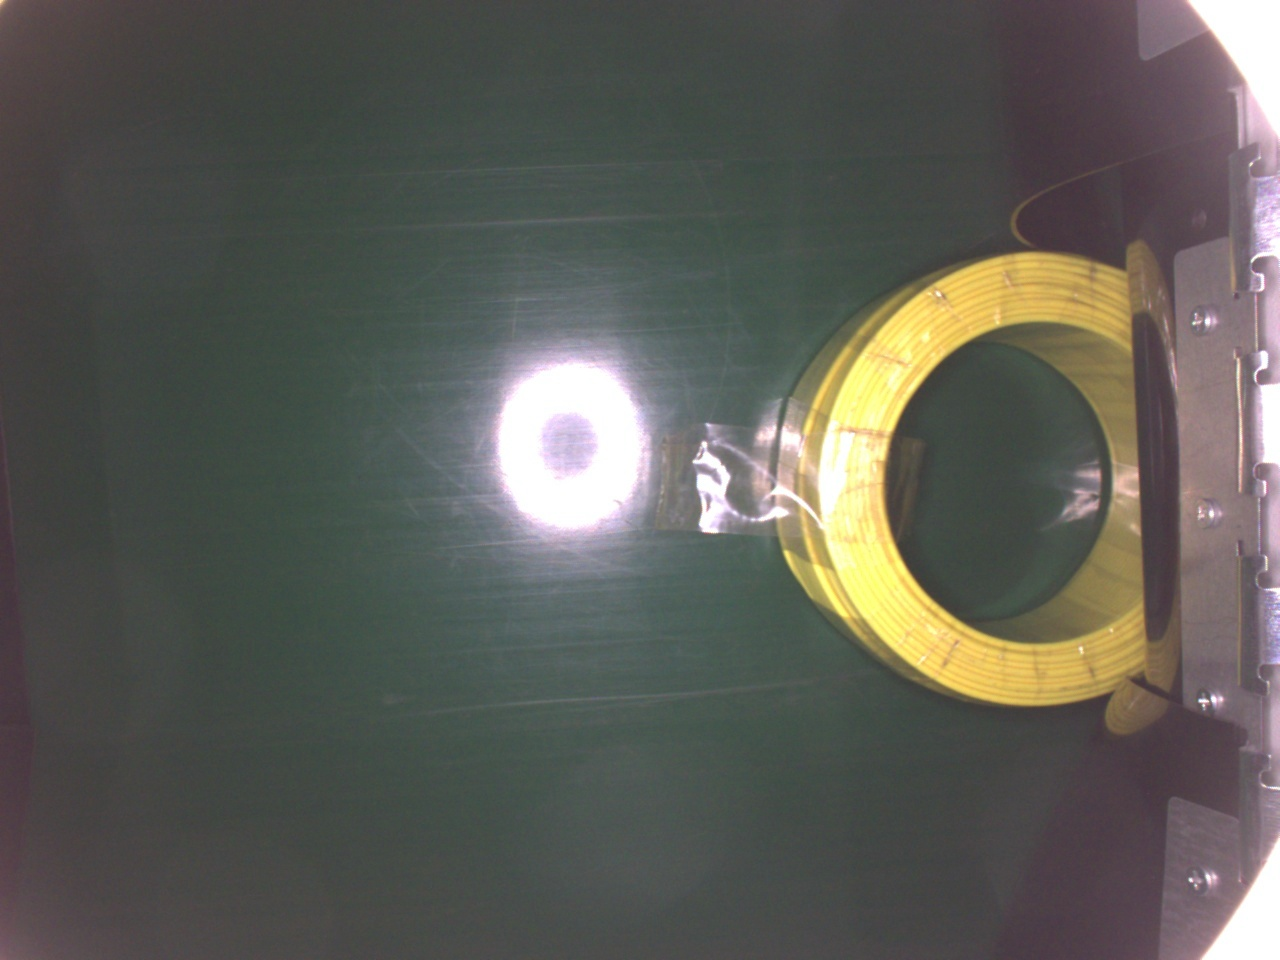yellow: (774, 246, 1149, 704)
